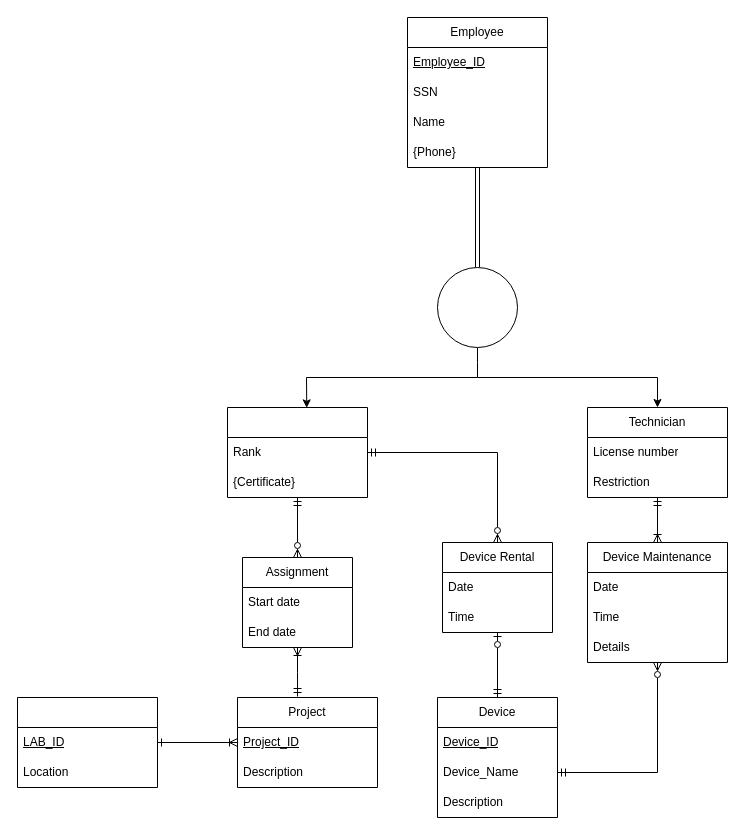
The diagram is 745 pixels wide and 835 high, and some of its shapes have lost their labels. Here are the shapes that lost their labels. From the top down, the box of each, then its label:
(436, 266, 518, 348): [insert]
(226, 406, 368, 498): Researcher
(16, 696, 158, 788): Research Lab
